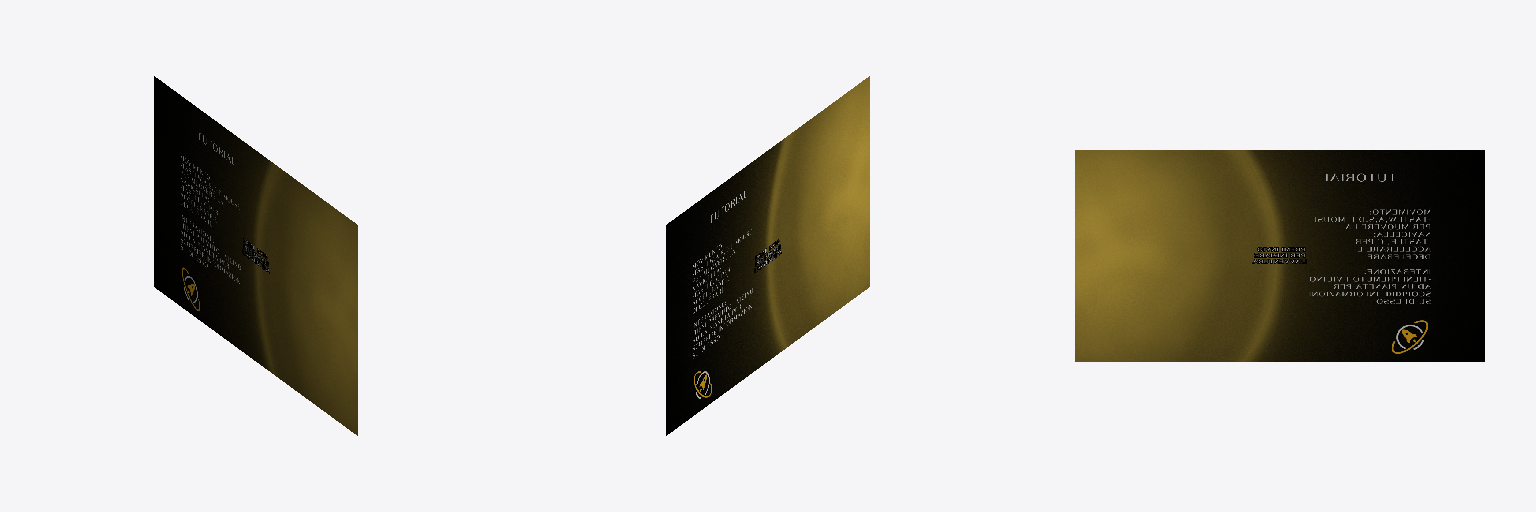
The picture shows the model from 3 angles: view 1: azimuth 30°, elevation 25°; view 2: azimuth 150°, elevation 25°; view 3: azimuth 270°, elevation 25°; orthographic projection.
Visible parts, largest first — view 1: Piano; view 2: Piano; view 3: Piano.
Boxes of the visible parts, box(x1,y1,x2,y2) form: Piano: box(154, 76, 357, 435); Piano: box(666, 76, 869, 435); Piano: box(1075, 150, 1484, 361).
Size of the model in its own units: 0 by 2 by 3.51.
1 materials, 1 textured.